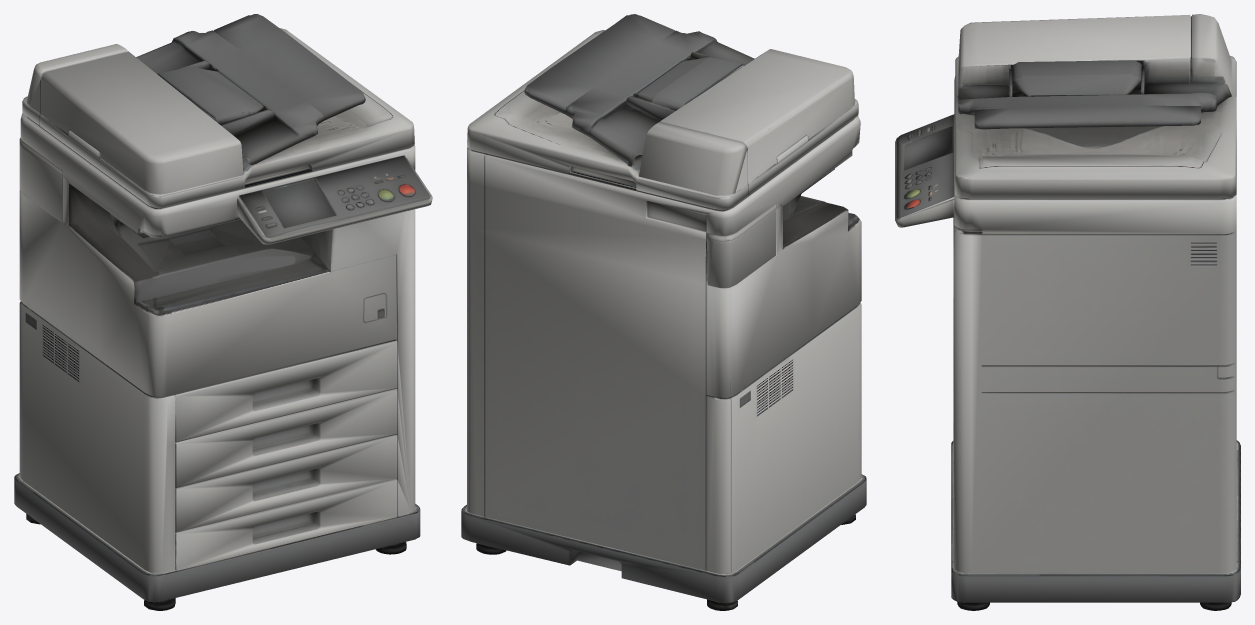
File: PRP_Copier.fbx
3 views of the same model, side by side, from view 1: azimuth 30°, elevation 25°; view 2: azimuth 150°, elevation 25°; view 3: azimuth 270°, elevation 25° (orthographic). The views are drawn at different scales.
Visible parts, largest first — view 1: tripo_node_b3ea2ddc-ecaf-41d0-9903-e98374ec6876; view 2: tripo_node_b3ea2ddc-ecaf-41d0-9903-e98374ec6876; view 3: tripo_node_b3ea2ddc-ecaf-41d0-9903-e98374ec6876.
Part boxes in pixels (x1=…): tripo_node_b3ea2ddc-ecaf-41d0-9903-e98374ec6876: x1=14, y1=14, x2=432, y2=610; tripo_node_b3ea2ddc-ecaf-41d0-9903-e98374ec6876: x1=461, y1=14, x2=866, y2=610; tripo_node_b3ea2ddc-ecaf-41d0-9903-e98374ec6876: x1=895, y1=14, x2=1240, y2=610.
Size of the model in its own units: 62.7 by 99.8 by 66.21.
Materials: 1 (1 with a texture image).
